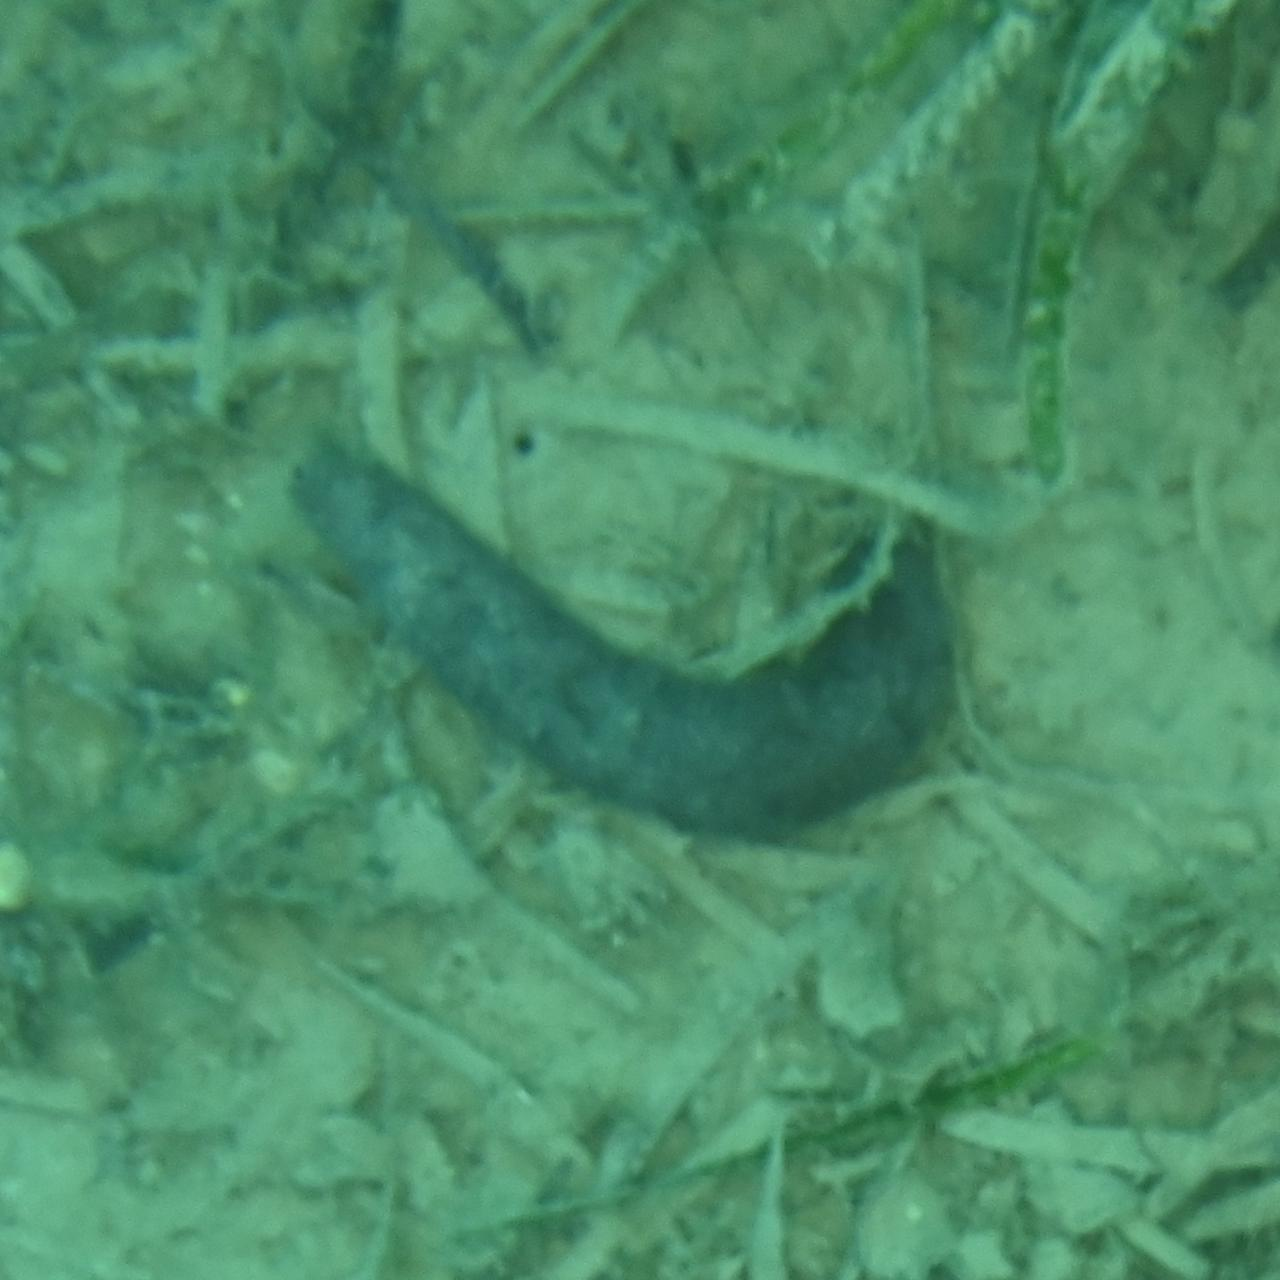Holothuria tubulosa: (296, 442, 984, 838)
